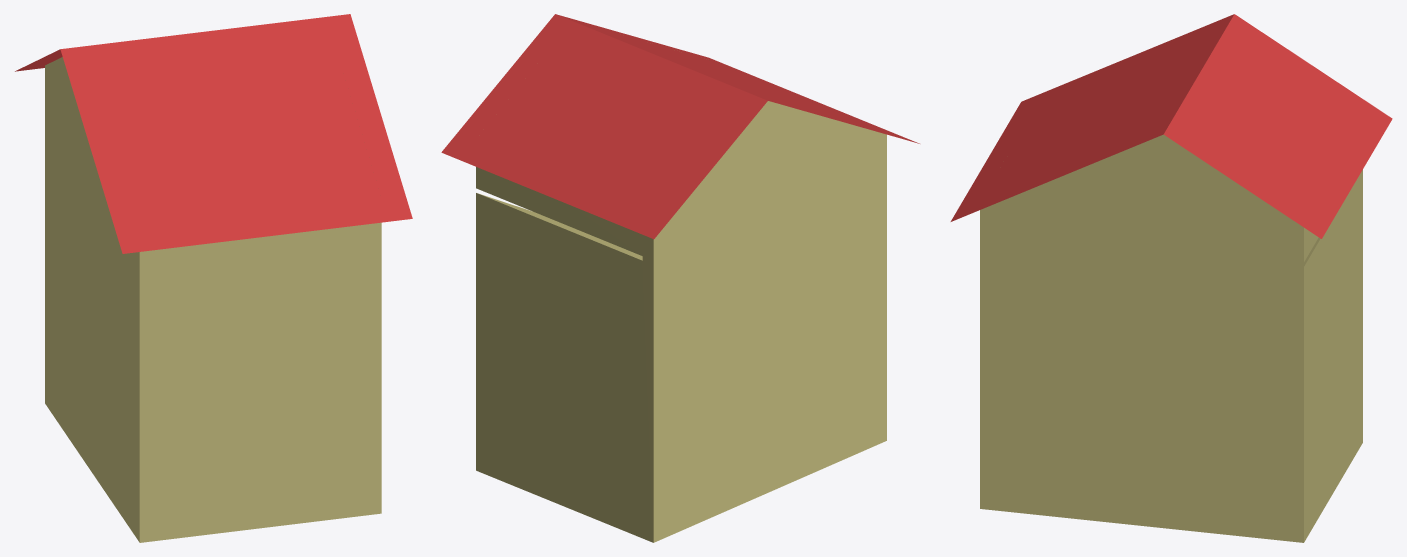
3 views of the same model, side by side, from view 1: azimuth 30°, elevation 25°; view 2: azimuth 150°, elevation 25°; view 3: azimuth 270°, elevation 25° (orthographic). The views are drawn at different scales.
Size of the model in its own units: 7.73 by 9.06 by 9.13.
